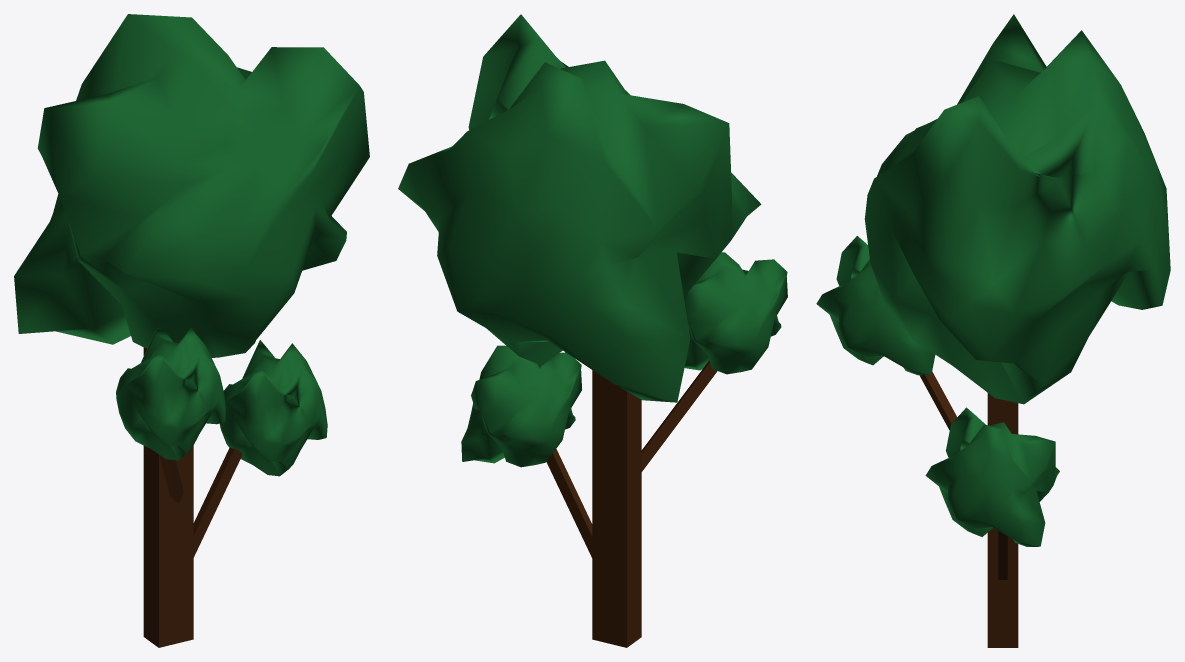
Rendered from tree_02.FBX.
The picture shows the model from 3 angles, left to right: view 1: azimuth 30°, elevation 25°; view 2: azimuth 150°, elevation 25°; view 3: azimuth 270°, elevation 25°; orthographic projection. The views are drawn at different scales.
Visible parts, largest first — view 1: Box007; view 2: Box007; view 3: Box007.
Boxes of the visible parts, bbox=[...] form: Box007: bbox=[14, 14, 369, 647]; Box007: bbox=[398, 14, 787, 647]; Box007: bbox=[816, 14, 1170, 647].
Bounding box in the file's own units: 443 × 808 × 427.
